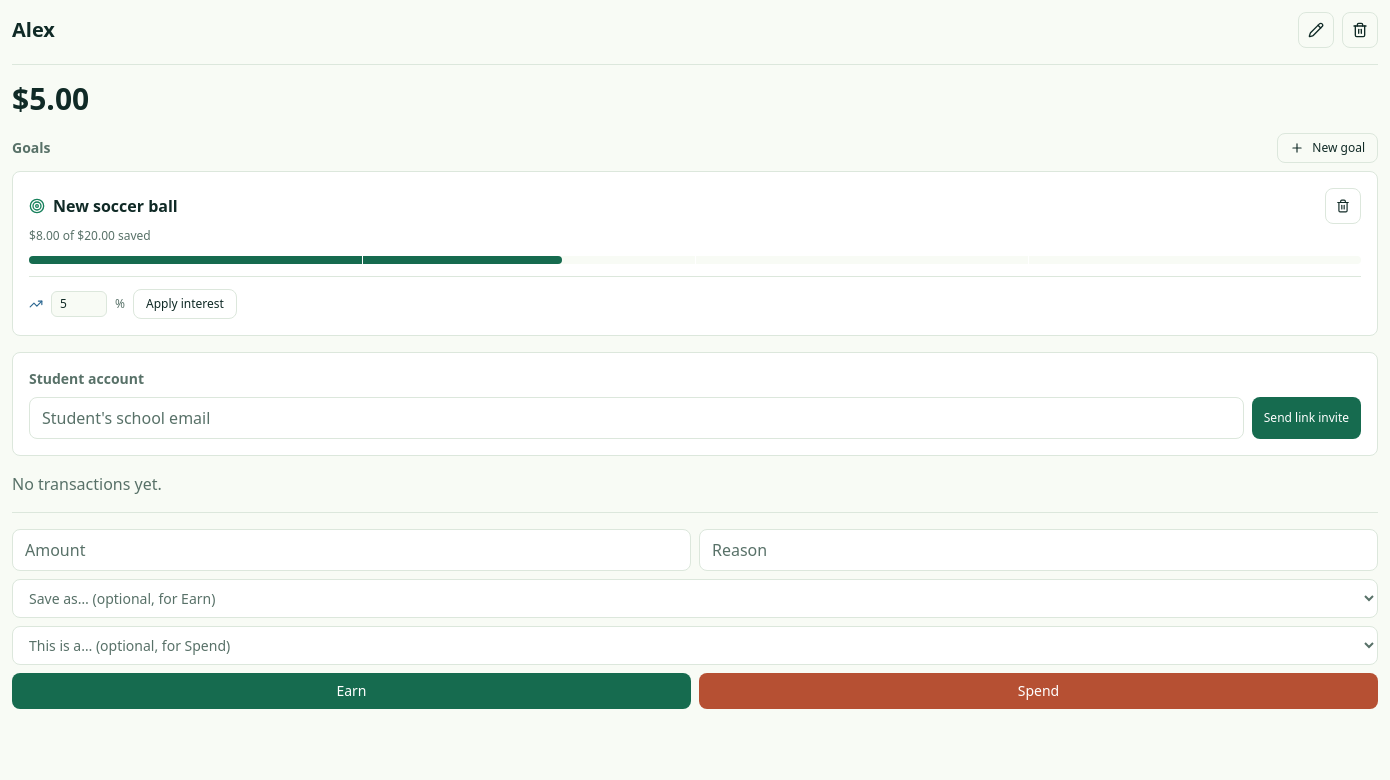
StudentDetailPane › reminds about unfinished goals only once an amount is entered
The width and height of the screenshot is (1390, 780).
Expected: the text "Spending this now means less goes toward" is not shown
Type "2" into the field with placeholder "Amount".
click(352, 550); type("2")  # box [12,529,691,571]
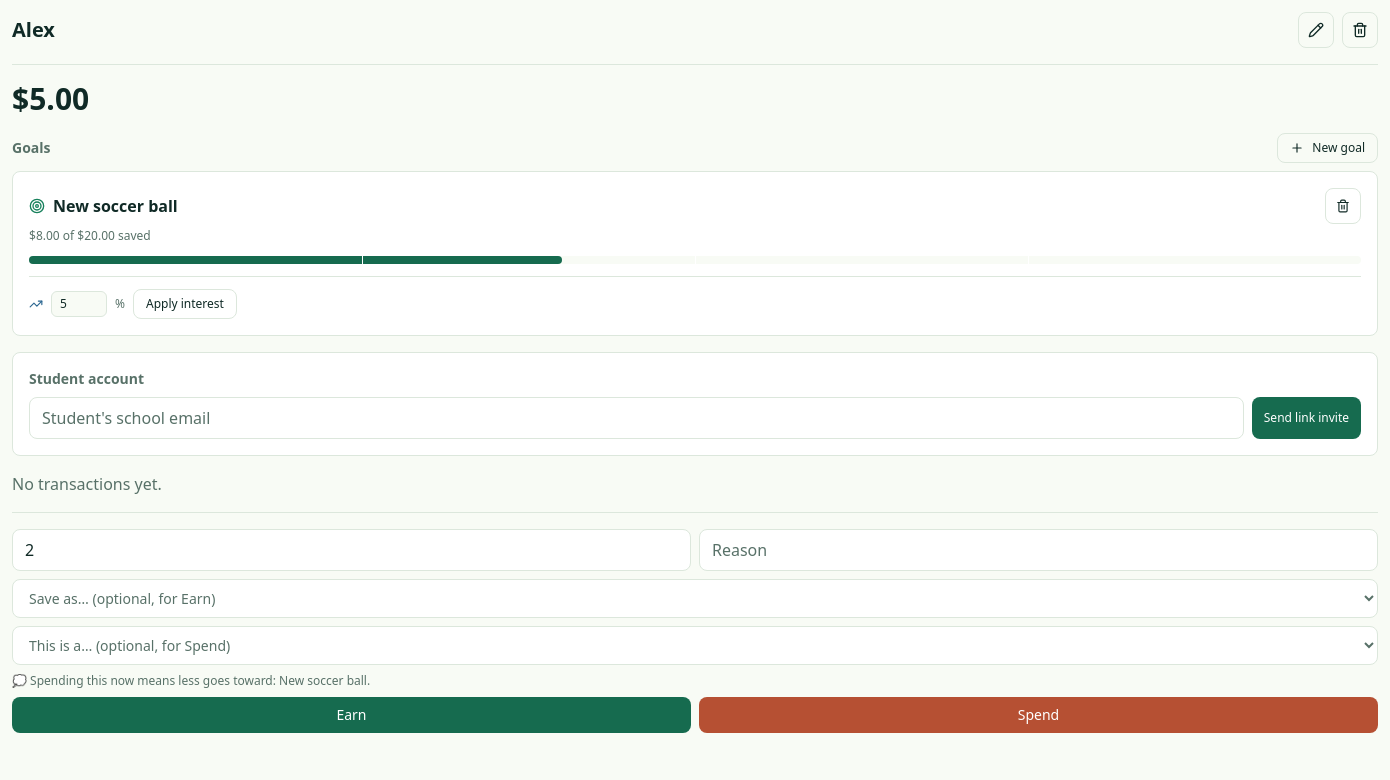
Now the text "💭 Spending this now means less goes toward: New soccer ball." is shown, box [12,672,370,689]
